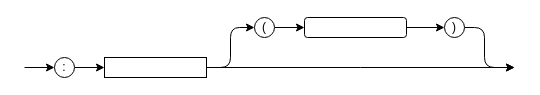
This 540x95 diagram has some shape labels left out. The shapes that lost their labels are listed below. From the top down, each one's centre as x and y in pixels, then its label:
At point (355, 27): "expression".
At point (155, 67): "cluster".
